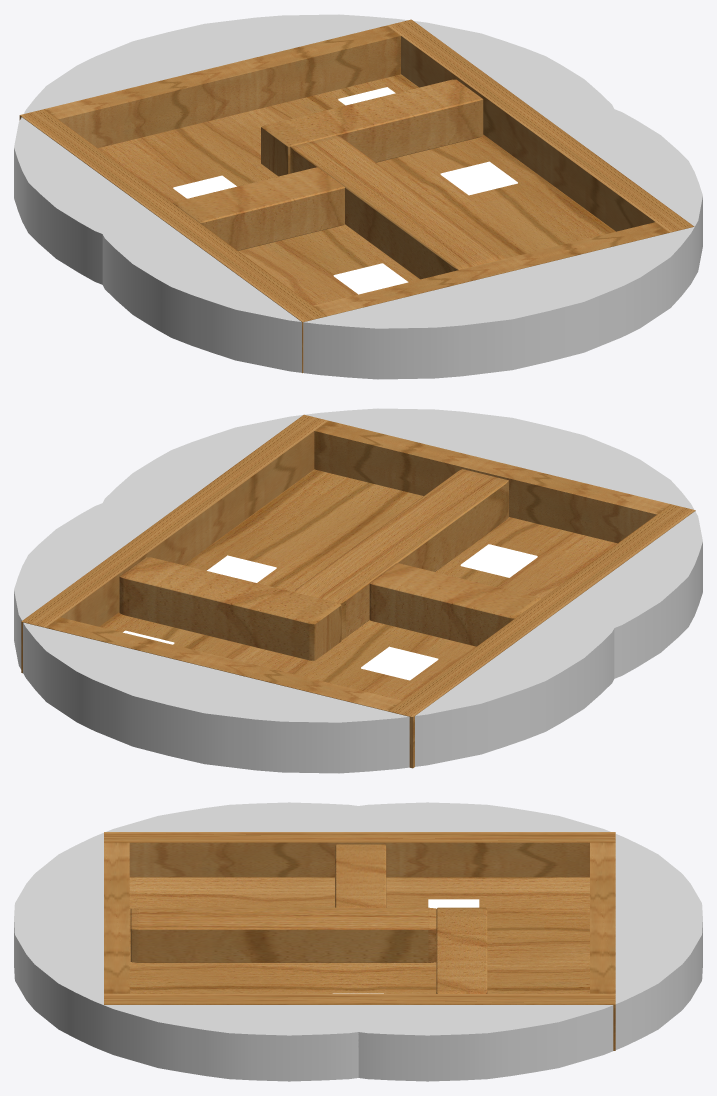
3 renders of one model, top to bottom at view 1: azimuth 30°, elevation 25°; view 2: azimuth 150°, elevation 25°; view 3: azimuth 270°, elevation 25°, orthographic. The views are drawn at different scales.
Parts seen in each view (by area): view 1: Wall_Out_line_cylinder, Wall_Out_line_cylinder001, Floor_1, Wall_Out_line__2 (×2), Wall_Out_line__3, Wall_In_line__4, Wall_In_line__3, Wall_In_line__5, Wall_Out_line__1, ClearPoint_1, JumpPoint_1, JumpPoint; view 2: Wall_Out_line_cylinder001, Wall_Out_line_cylinder, Floor_1, Wall_Out_line__1, Wall_Out_line__3, Wall_In_line__3, Wall_In_line__4, Wall_Out_line__2 (×2), Wall_In_line__5, JumpPoint, JumpPoint_1, ClearPoint_1; view 3: Wall_Out_line_cylinder, Wall_Out_line_cylinder001, Floor_1, Wall_Out_line__2 (×2), Wall_In_line__4, Wall_Out_line__3, Wall_In_line__3, Wall_Out_line__1, Wall_In_line__5, JumpPoint.
Part boxes in pixels (<box>): Wall_Out_line_cylinder: <box>102,109,702,379</box>; Wall_Out_line_cylinder001: <box>14,14,613,284</box>; Floor_1: <box>98,74,615,305</box>; Wall_Out_line__2 (×2): <box>19,25,400,373</box>; Wall_Out_line__3: <box>387,19,694,232</box>; Wall_In_line__4: <box>290,135,504,279</box>; Wall_In_line__3: <box>261,79,483,176</box>; Wall_In_line__5: <box>173,167,344,250</box>; Wall_Out_line__1: <box>313,222,669,316</box>; ClearPoint_1: <box>440,161,517,195</box>; JumpPoint_1: <box>333,263,408,294</box>; JumpPoint: <box>173,175,236,198</box>; Wall_Out_line_cylinder001: <box>14,503,614,773</box>; Wall_Out_line_cylinder: <box>103,408,702,678</box>; Floor_1: <box>99,469,617,700</box>; Wall_Out_line__1: <box>314,420,670,543</box>; Wall_Out_line__3: <box>21,414,327,673</box>; Wall_In_line__3: <box>119,557,341,660</box>; Wall_In_line__4: <box>294,469,508,639</box>; Wall_Out_line__2 (×2): <box>45,504,695,768</box>; Wall_In_line__5: <box>369,563,541,646</box>; JumpPoint: <box>361,646,438,680</box>; JumpPoint_1: <box>460,544,537,577</box>; ClearPoint_1: <box>207,555,276,582</box>; Wall_Out_line_cylinder: <box>14,802,358,1081</box>; Wall_Out_line_cylinder001: <box>358,802,702,1081</box>; Floor_1: <box>129,877,589,993</box>; Wall_Out_line__2 (×2): <box>104,832,615,993</box>; Wall_In_line__4: <box>130,907,436,962</box>; Wall_Out_line__3: <box>104,994,615,1050</box>; Wall_In_line__3: <box>436,907,487,993</box>; Wall_Out_line__1: <box>104,842,129,993</box>; Wall_In_line__5: <box>335,844,386,907</box>; JumpPoint: <box>428,899,479,908</box>.
Bounding box in the file's own units: 4314 × 400 × 5388.
5 materials, 2 textured.
